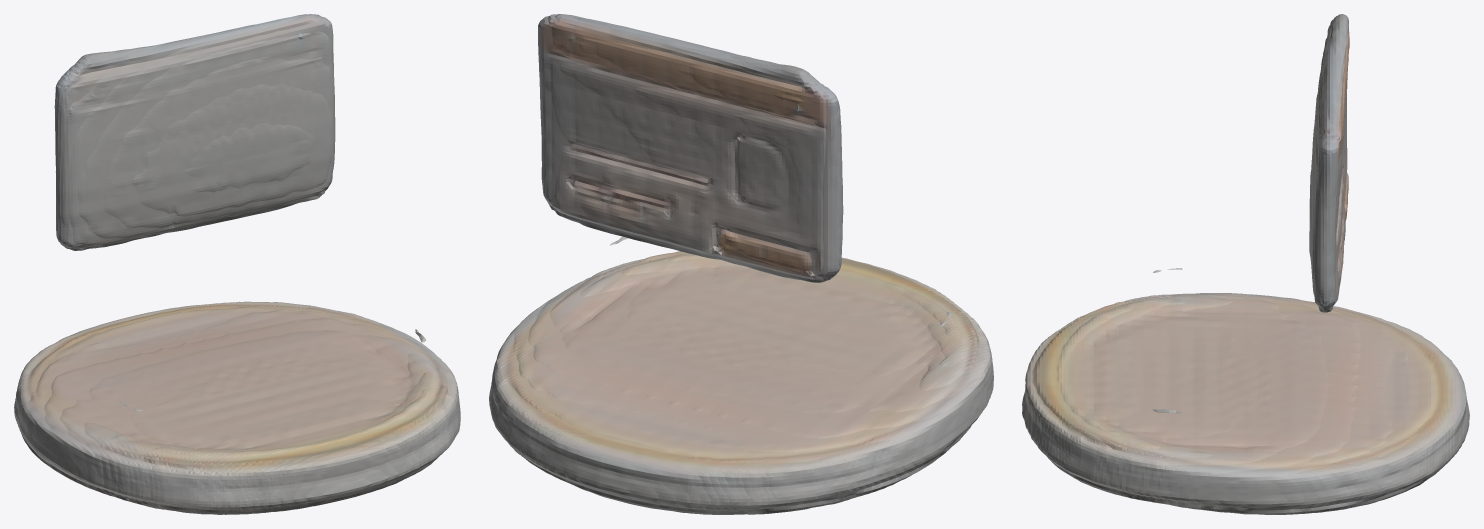
The model's file is room-02-credential-plinth.glb.
3 views of the same model, side by side, from view 1: azimuth 30°, elevation 25°; view 2: azimuth 150°, elevation 25°; view 3: azimuth 270°, elevation 25° (orthographic). The views are drawn at different scales.
Parts seen in each view (by area): view 1: world; view 2: world; view 3: world.
Part boxes in pixels (<box>): world: <box>14,14,460,514</box>; world: <box>489,14,993,514</box>; world: <box>1022,14,1469,514</box>.
Size of the model in its own units: 0.9433 by 0.8844 by 0.969.
